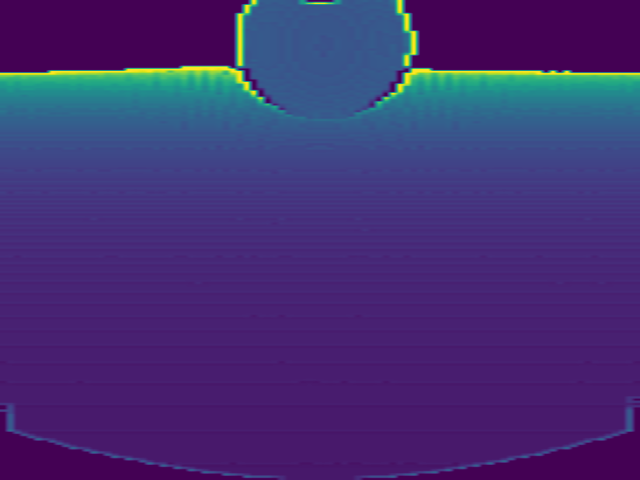sphere: (233, 1, 417, 121)
